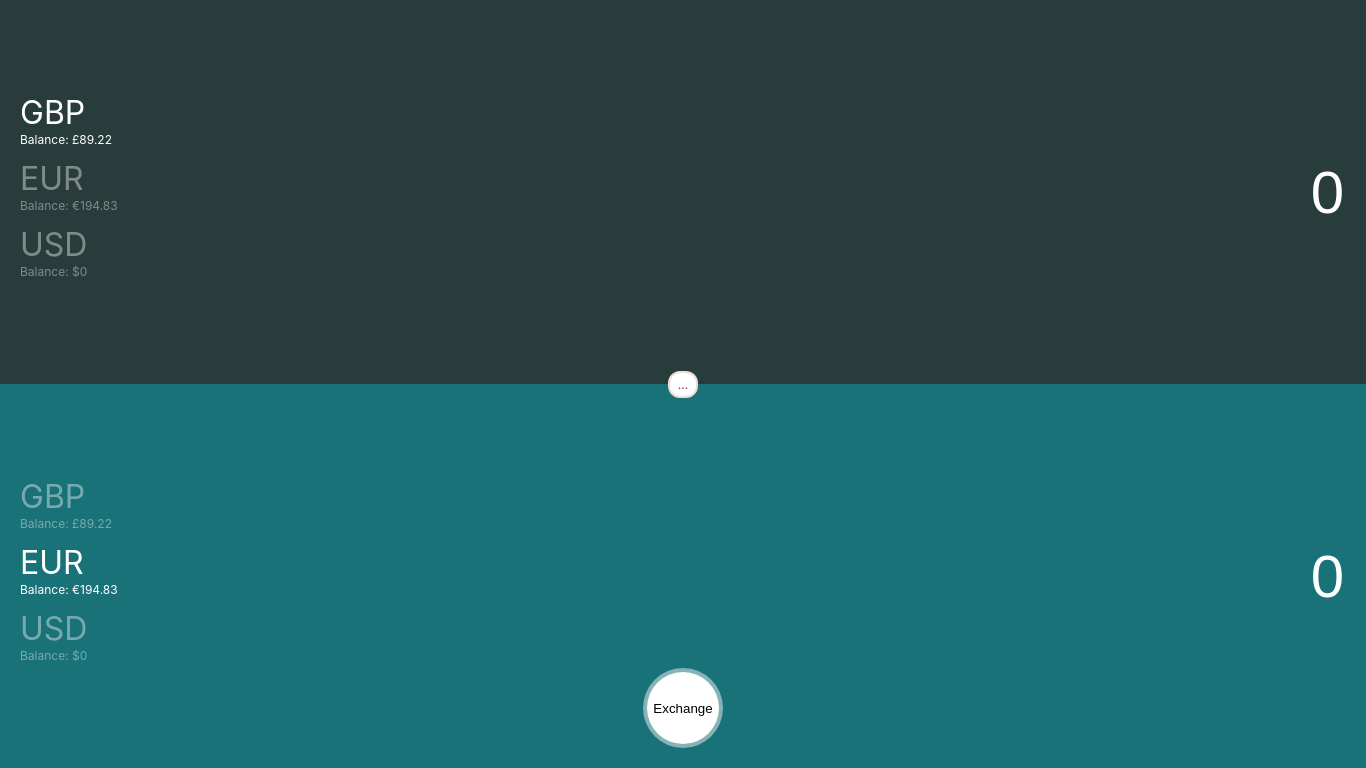
Test case: Given the exchange screen › When a value is entered in the base currency field › And it is a number › should not allow more than 2 decimals
In the field with test id "exchange-base-amount": coordinates (1004, 192) [663,156,1346,228], type "32.98"
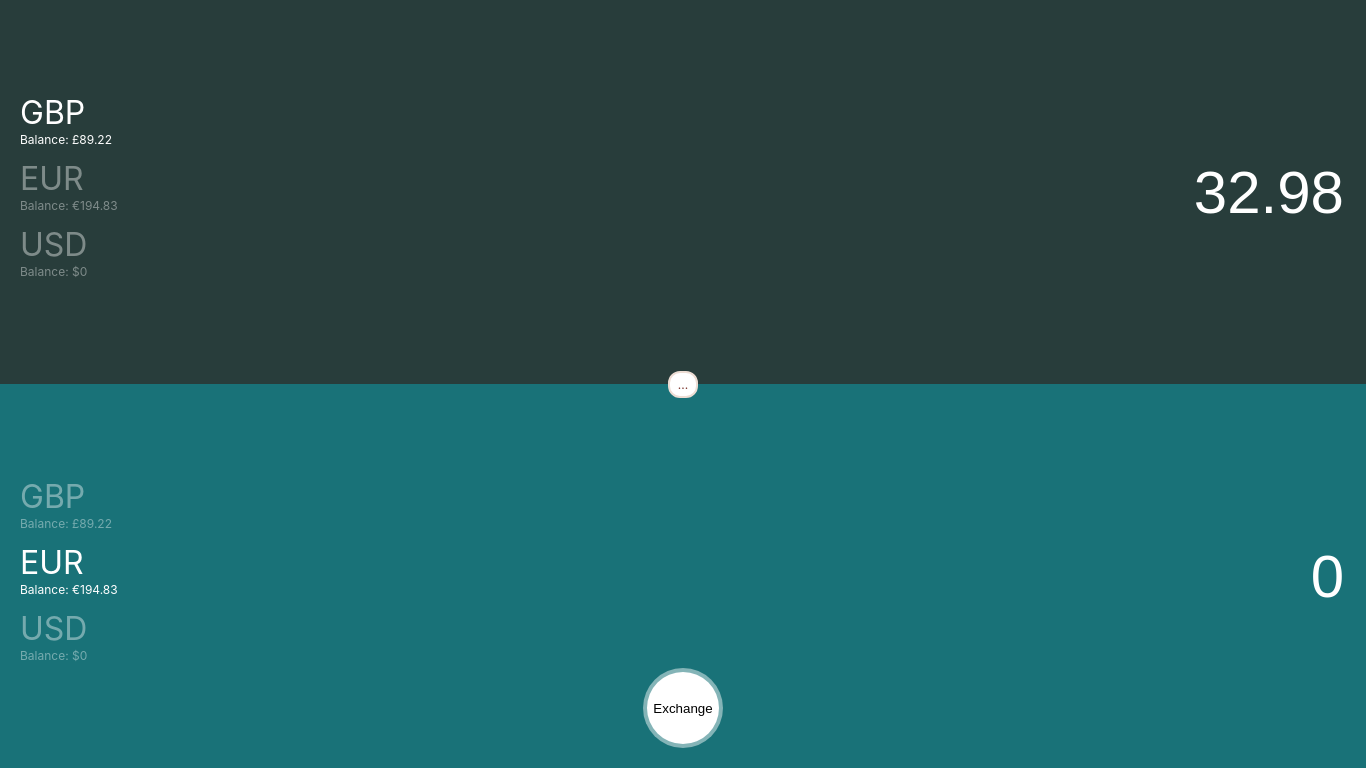
Replace the text in the field with test id "exchange-base-amount" with "59.2357": coordinates (1004, 192) [663,156,1346,228]
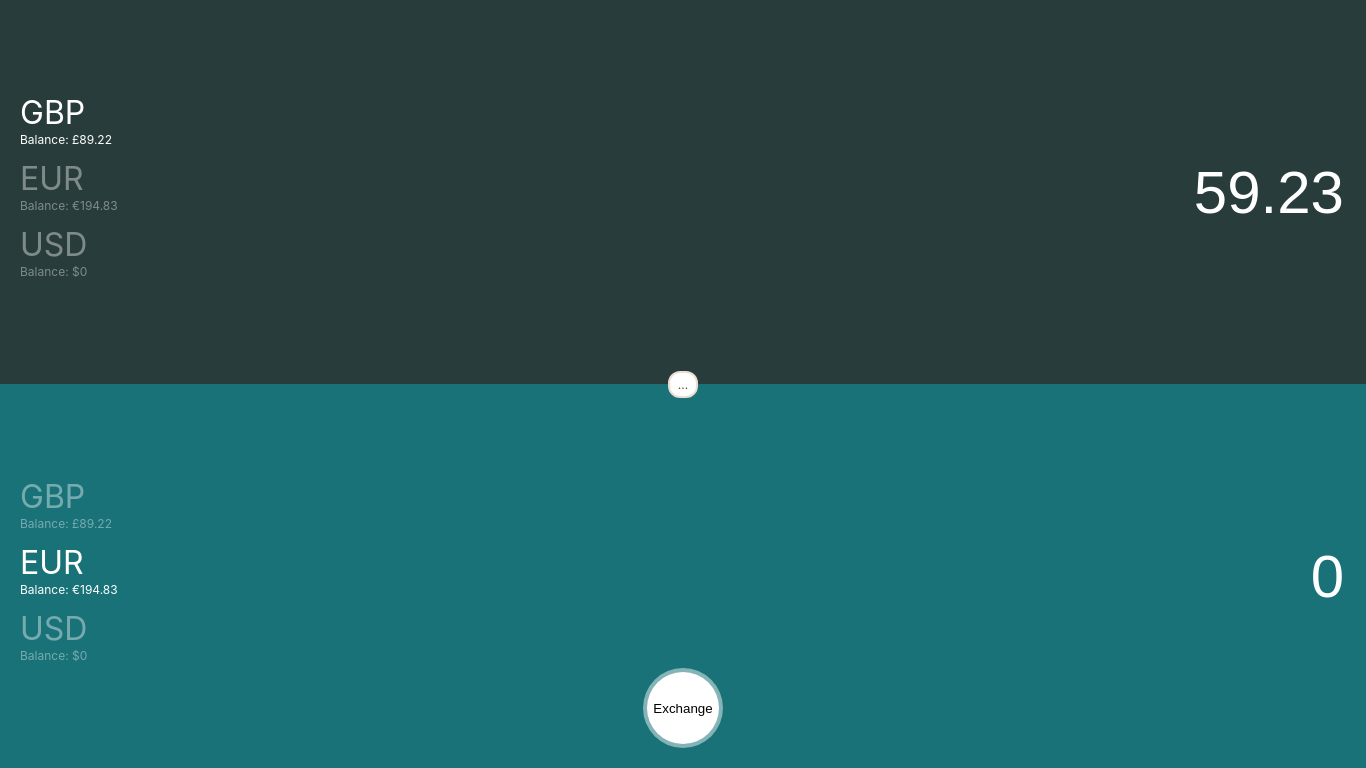
Expected: the field with test id "exchange-base-amount" holds "59.23", [663,156,1346,228]
